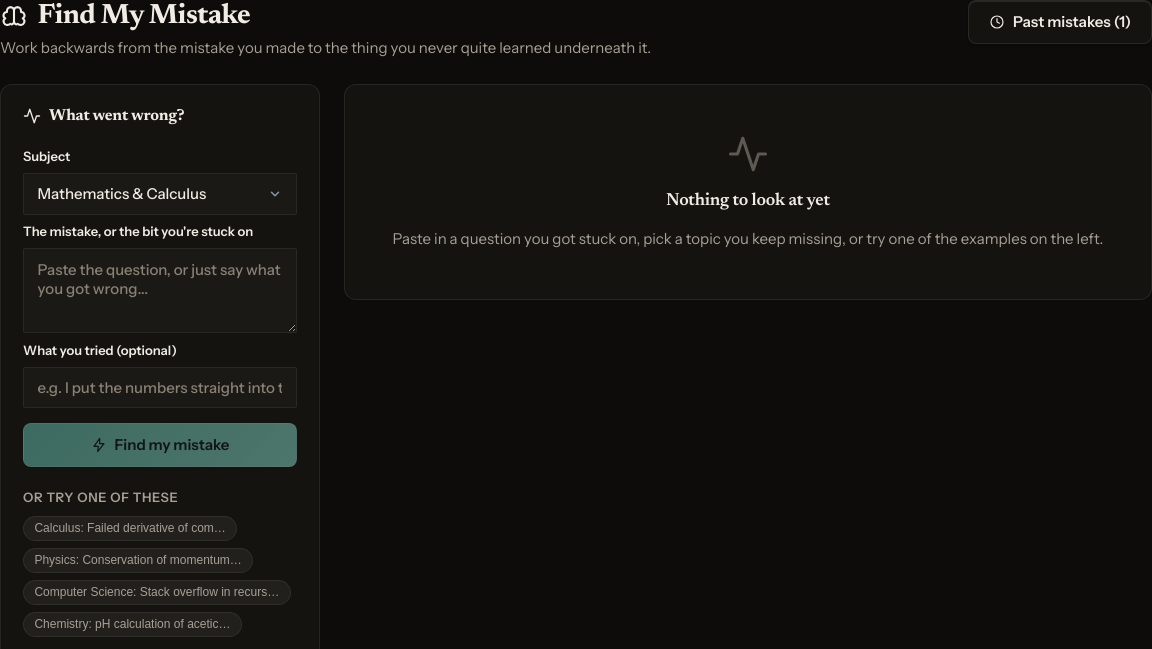
Scenario: CognitiveDebuggerView › manages trace history and allows switching between traces
Click the button with test id "open-history-btn".
click(1060, 22)  # box [968,0,1151,44]
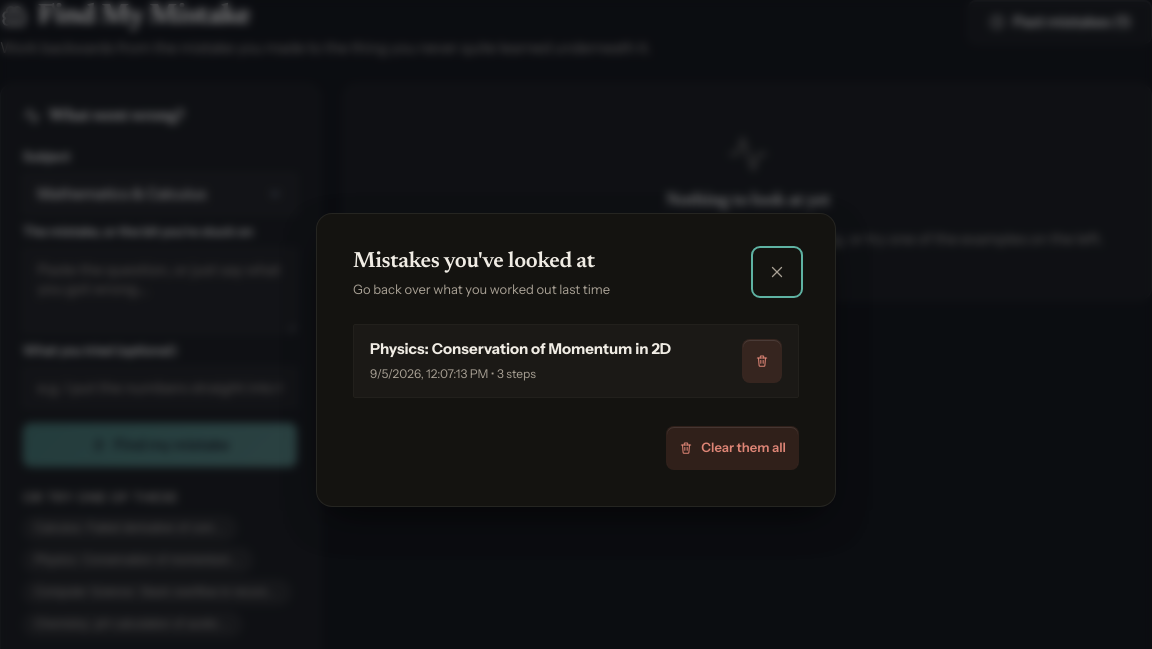
Now the heading "Mistakes you've looked at" is shown, box [353,250,610,275]
Now the text "Physics: Conservation of Momentum in 2D" is shown, box [370,337,671,361]
// Select the trace
Click the button with test id "history-item-hist-trace-1".
click(576, 361)  # box [353,324,799,398]
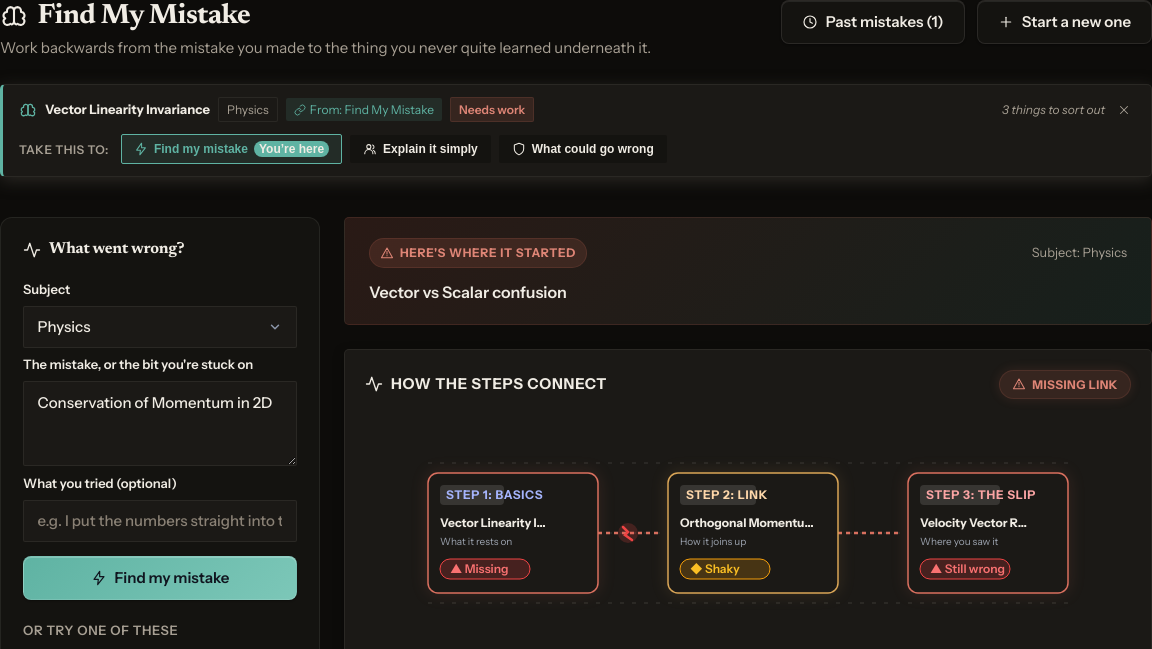
Now the text "Vector vs Scalar confusion" is shown, box [369,282,567,302]
Now the button with test id "new-debug-btn" is shown
// Reset button clears active view
Click the button with test id "new-debug-btn".
click(1064, 22)  # box [977,0,1151,44]
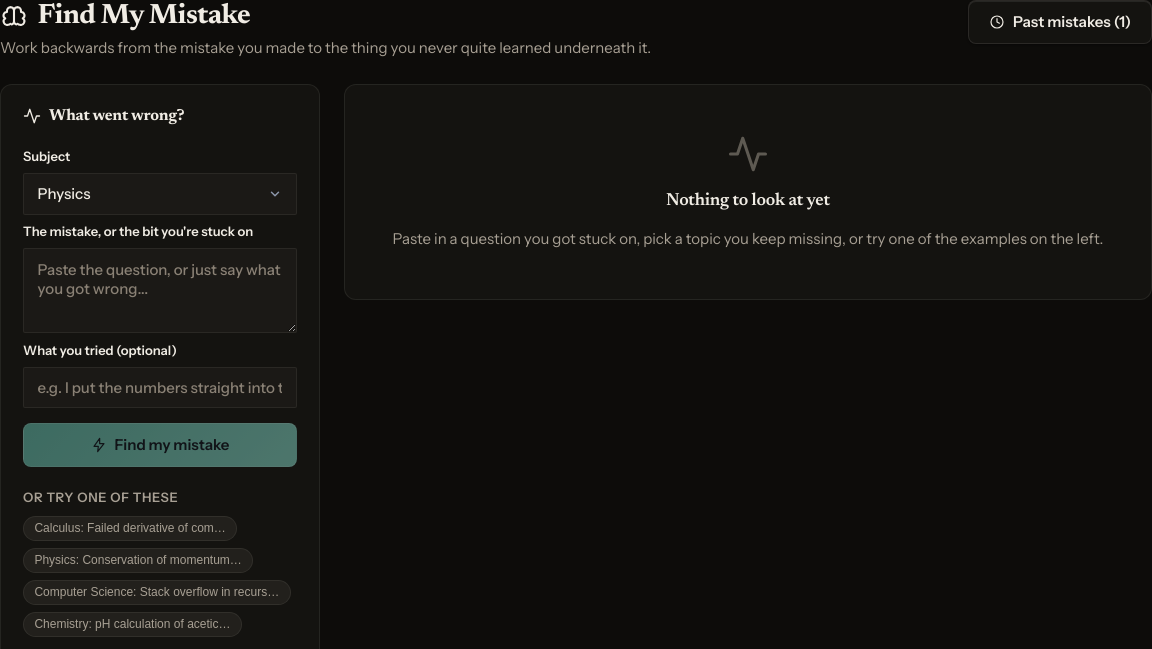
Now the heading "Nothing to look at yet" is shown, box [666,191,830,211]
